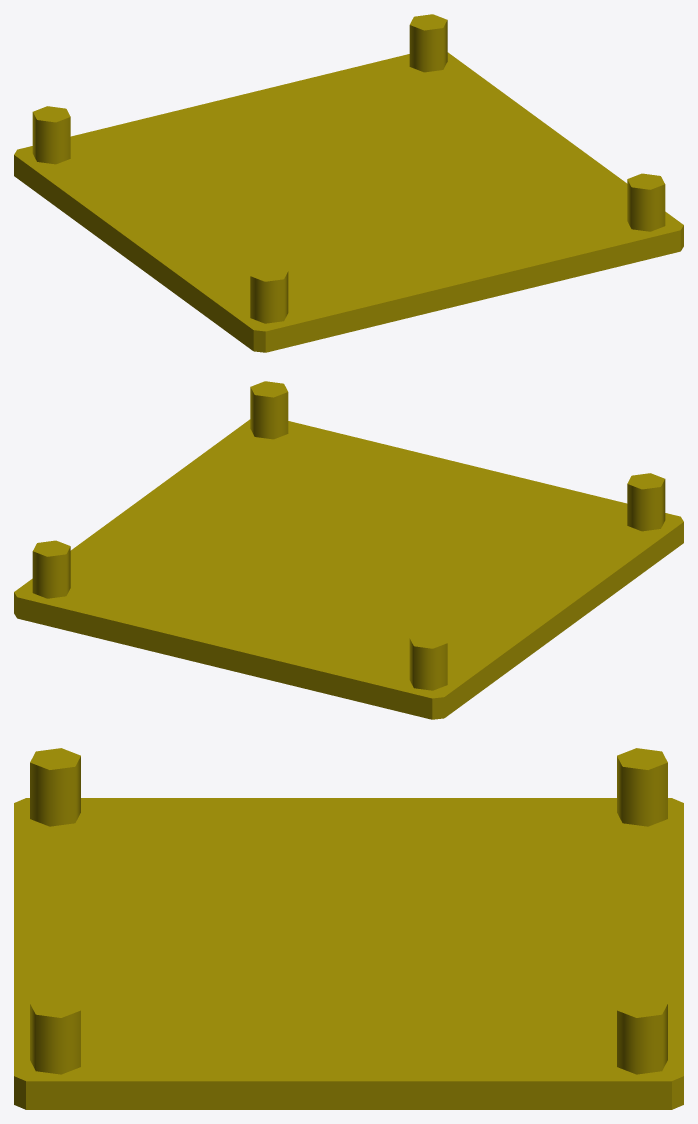
The model's file is torre01_sota.fbx.
3 views of the same model, one above another, from view 1: azimuth 30°, elevation 25°; view 2: azimuth 150°, elevation 25°; view 3: azimuth 270°, elevation 25° (orthographic). The views are drawn at different scales.
Visible parts, largest first — view 1: torre01_sota; view 2: torre01_sota; view 3: torre01_sota.
Boxes of the visible parts, x1,y1,x2,y2 form: torre01_sota: (14, 14, 683, 352); torre01_sota: (14, 381, 683, 719); torre01_sota: (14, 748, 683, 1109).
Bounding box in the file's own units: 4.06 × 0.5705 × 4.06.
